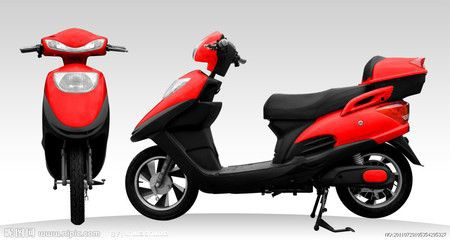non-vehicle: (123, 30, 433, 228), (18, 28, 124, 226)
